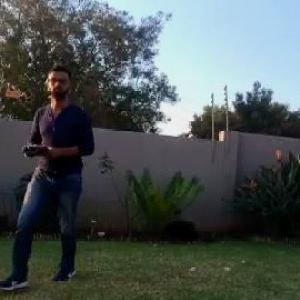follow: (0, 59, 97, 292)
